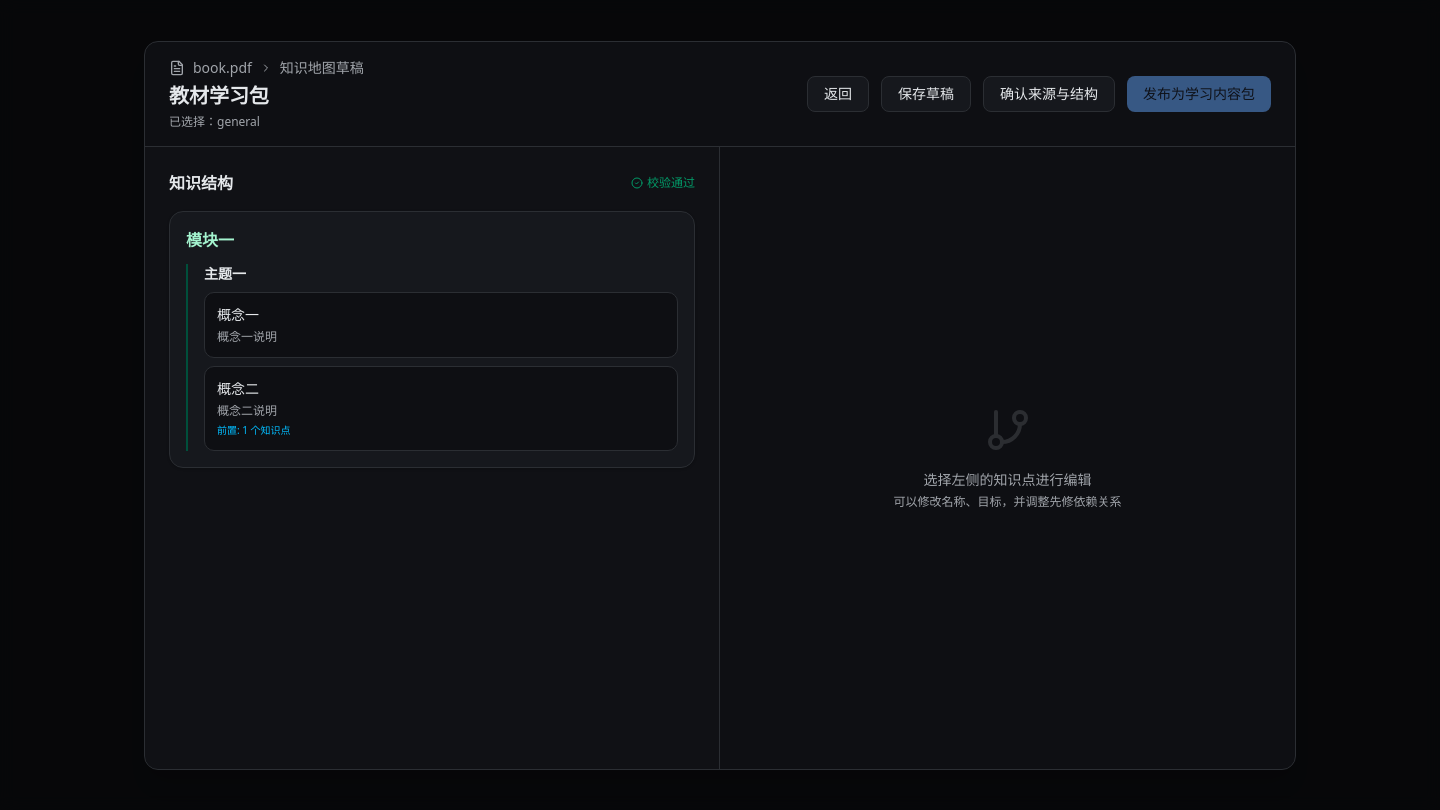
Test: private tutor source-grounded draft editor › requires map and authored-content confirmation, then invalidates both on a later edit
Expected: the button "发布为学习内容包" is disabled, x1=1127 y1=76 x2=1271 y2=112
Click the button "确认来源与结构".
click(1049, 94)  # box x1=983 y1=76 x2=1115 y2=112
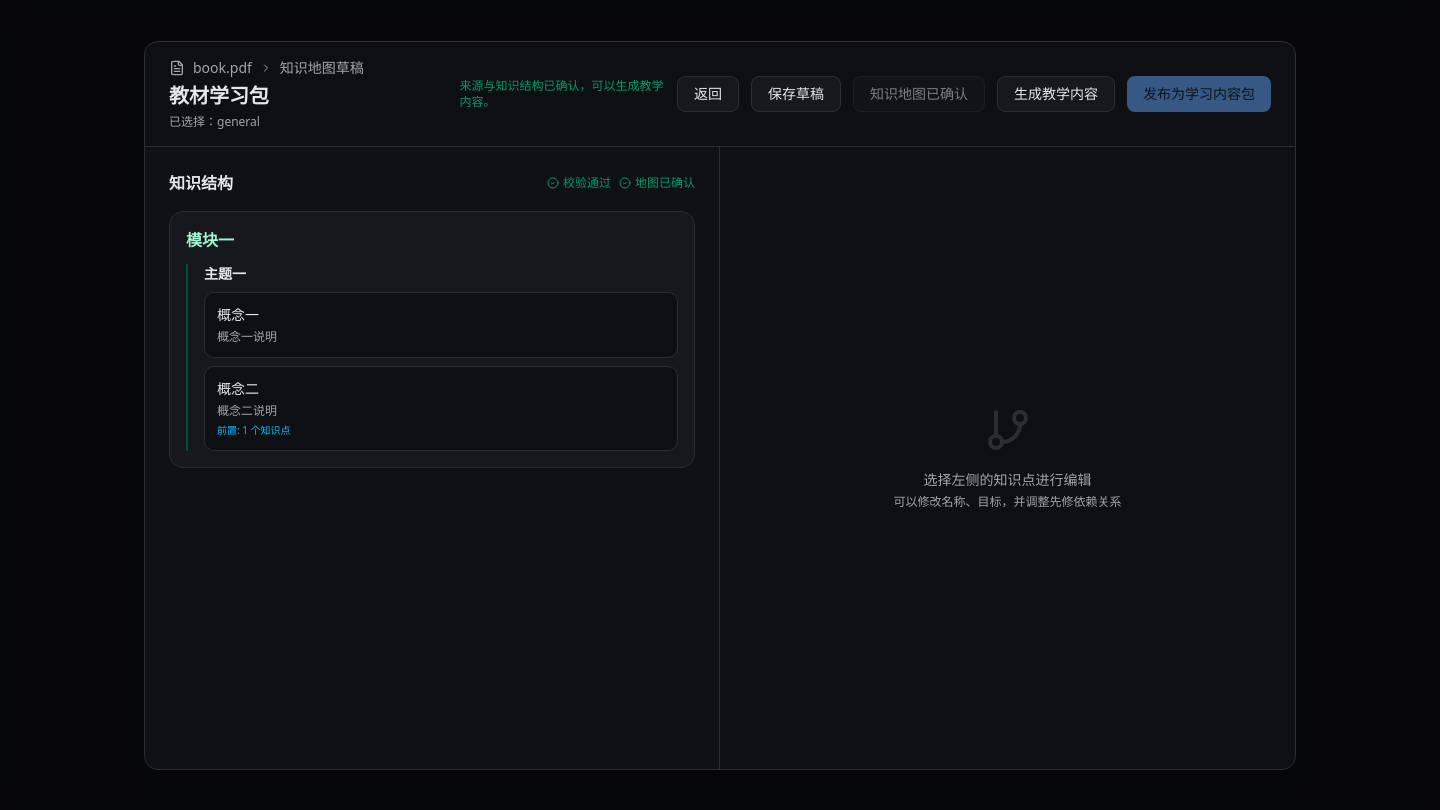
Expected: the button "发布为学习内容包" is disabled, x1=1127 y1=76 x2=1271 y2=112
Click the button "生成教学内容".
click(1056, 94)  # box x1=997 y1=76 x2=1115 y2=112
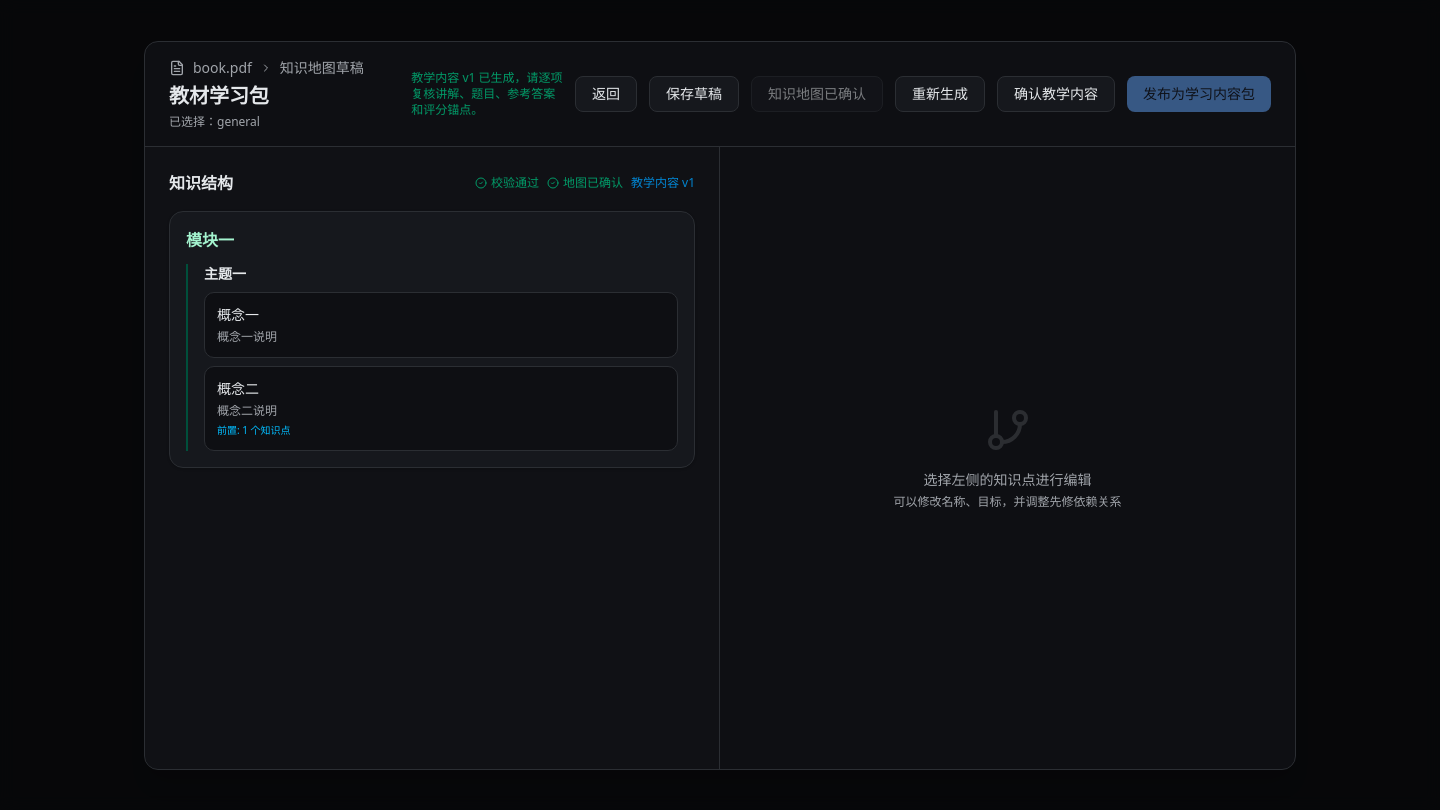
Expected: the button "发布为学习内容包" is disabled, x1=1127 y1=76 x2=1271 y2=112
Click the button "确认教学内容".
click(1056, 94)  # box x1=997 y1=76 x2=1115 y2=112
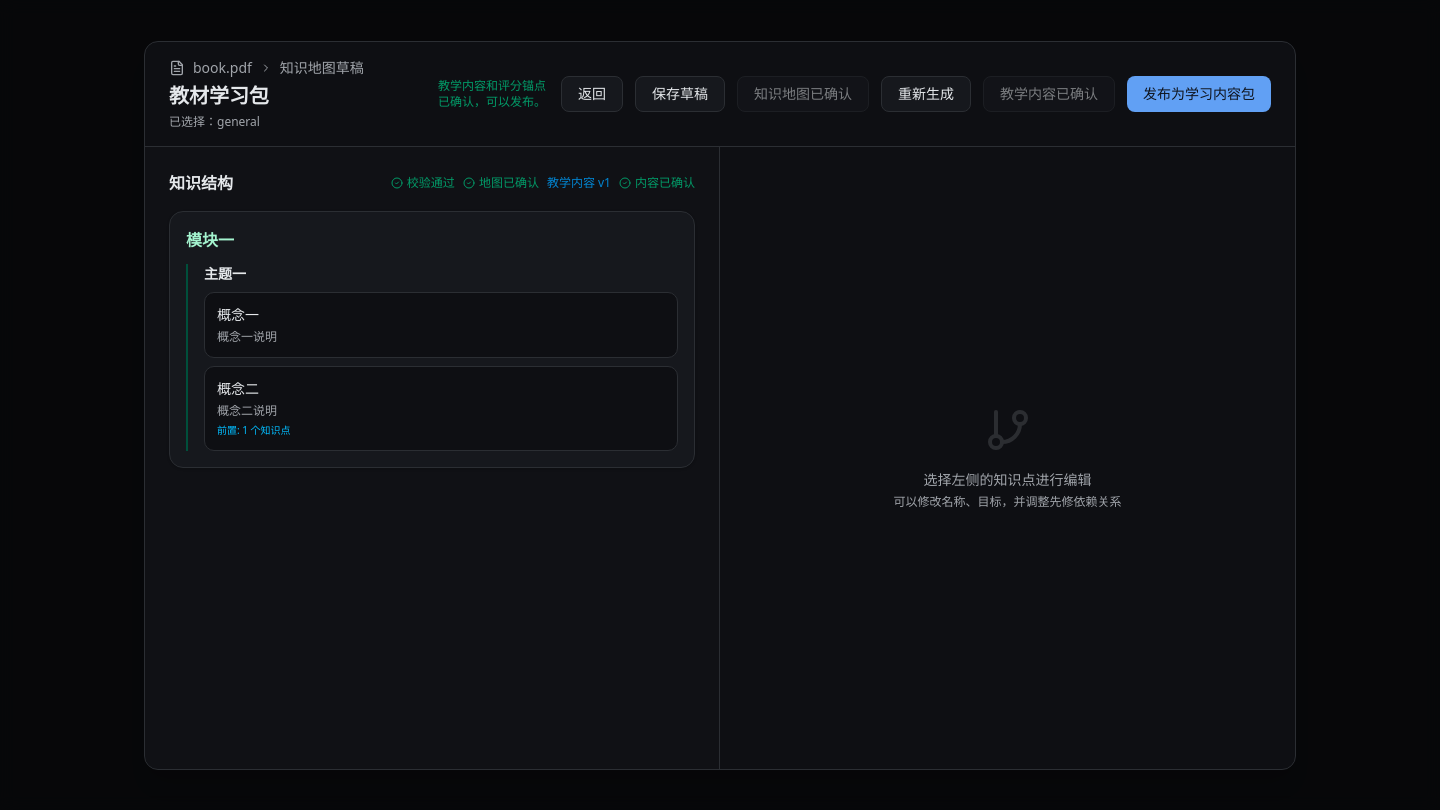
Expected: the button "发布为学习内容包" is enabled, x1=1127 y1=76 x2=1271 y2=112
Replace the text in the field named "内容包名称" with "重新编辑的学习包" at (304, 96), box x1=169 y1=82 x2=438 y2=110
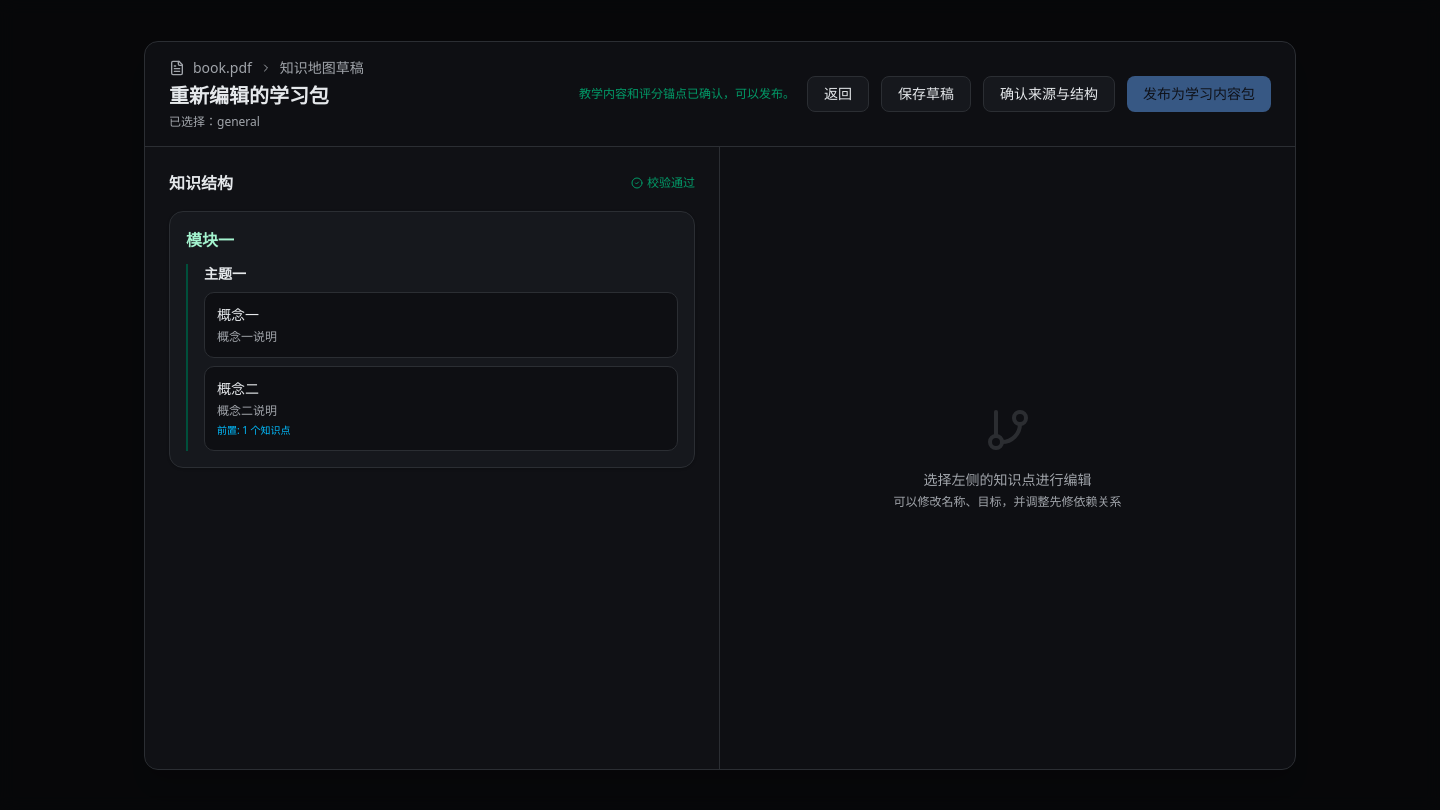
Expected: the button "发布为学习内容包" is disabled, x1=1127 y1=76 x2=1271 y2=112
